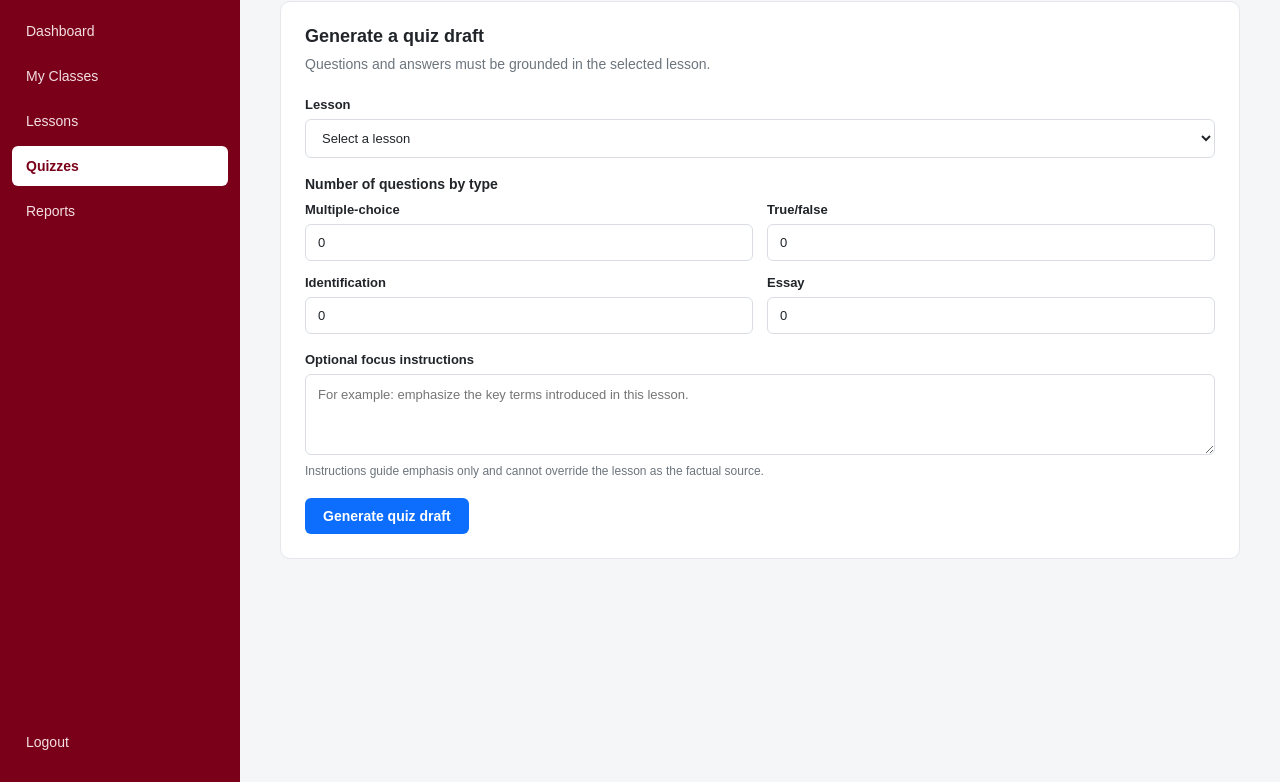
Test: teacher quiz review › renders each question type, teacher answers, evidence and validation warnings
Select "Cell Energy — ATP (draft)" in the dropdown labelled "Lesson" at (760, 138), box [305,119,1215,158]
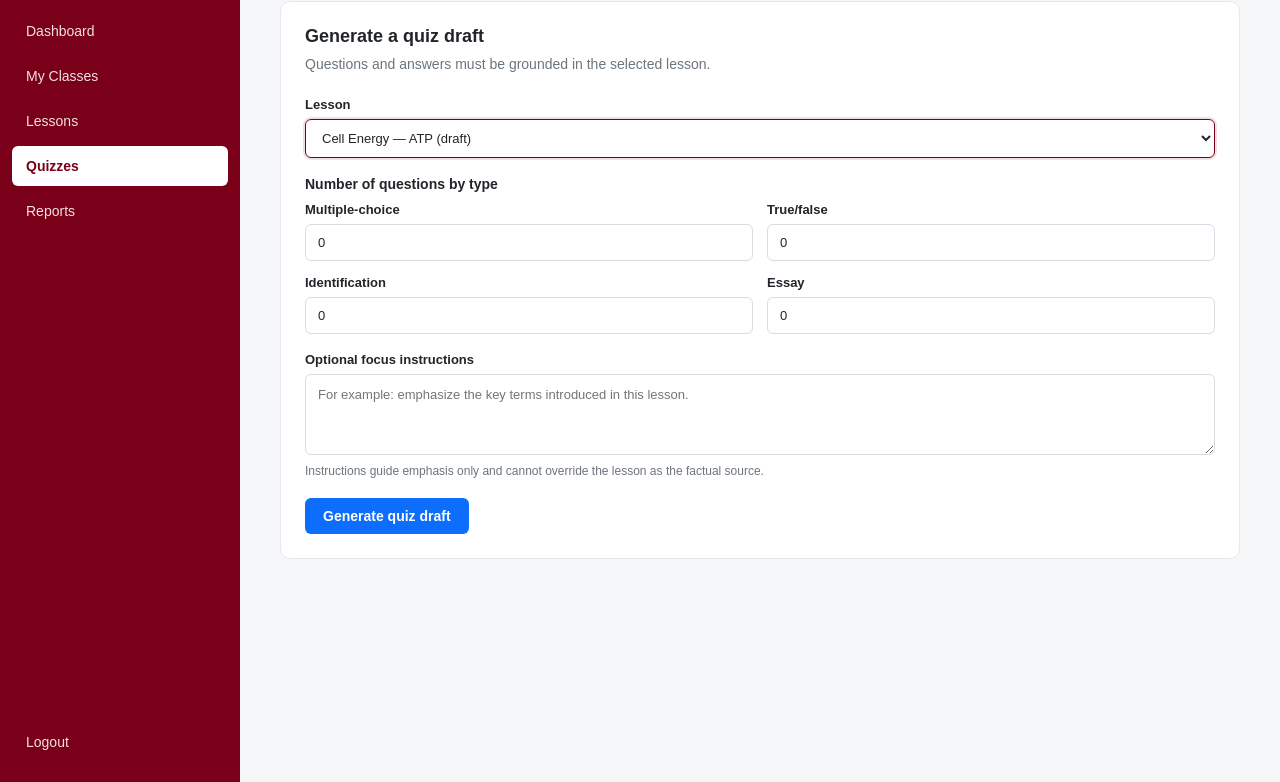
Replace the text in the number field named "Multiple-choice count" with "1" at (529, 242), box [305,224,753,261]
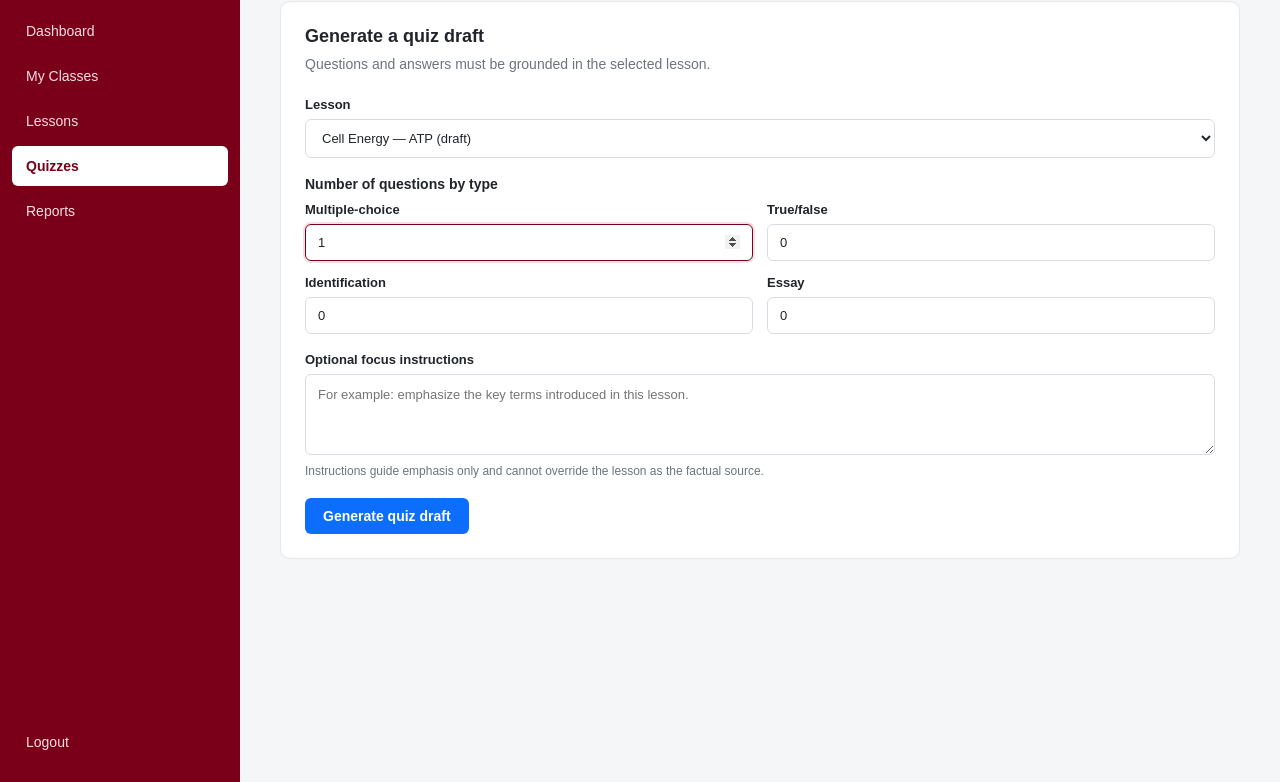
Click the button "Generate quiz draft" at (387, 516), box [305,498,469,534]
(page scrolled)
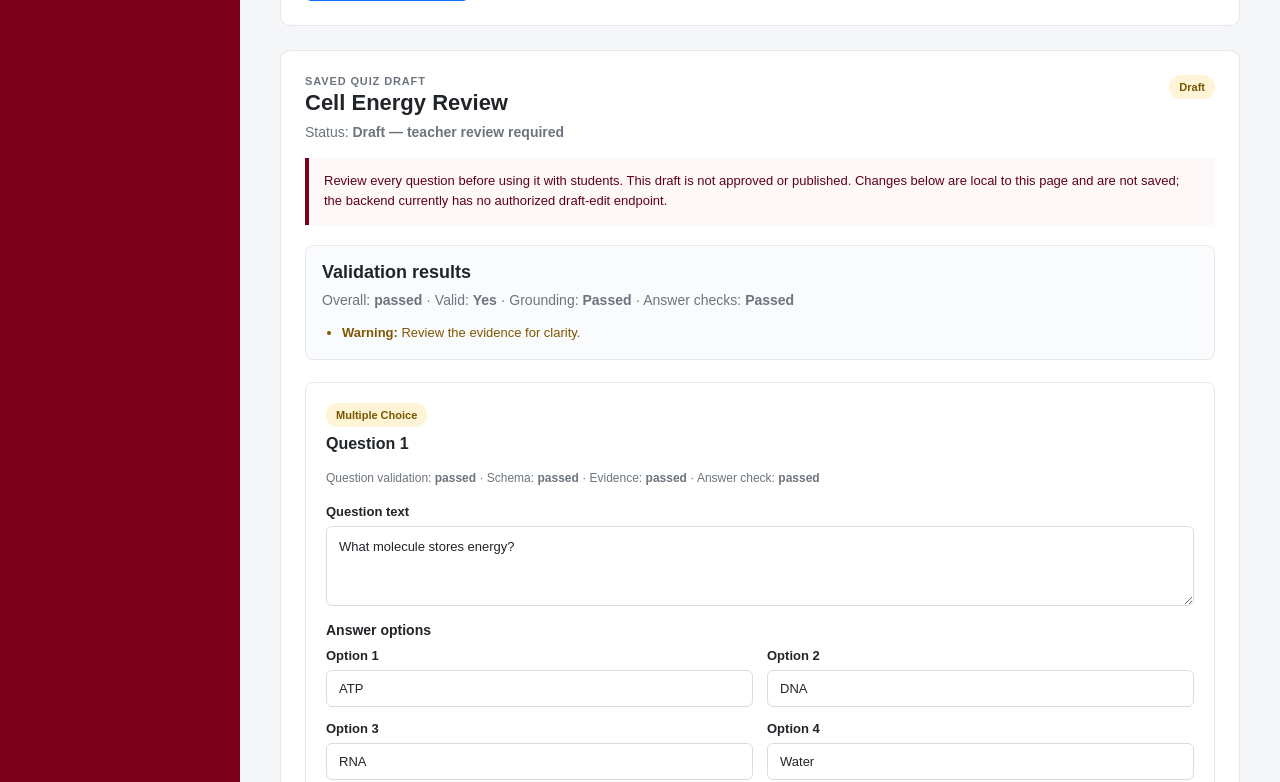
Now the heading "Cell Energy Review" is shown, box [305,90,508,114]
Now the text "Draft — teacher review required" is shown, box [352,124,564,140]
Now the text "multiple choice" is shown, box [326,403,427,427]
